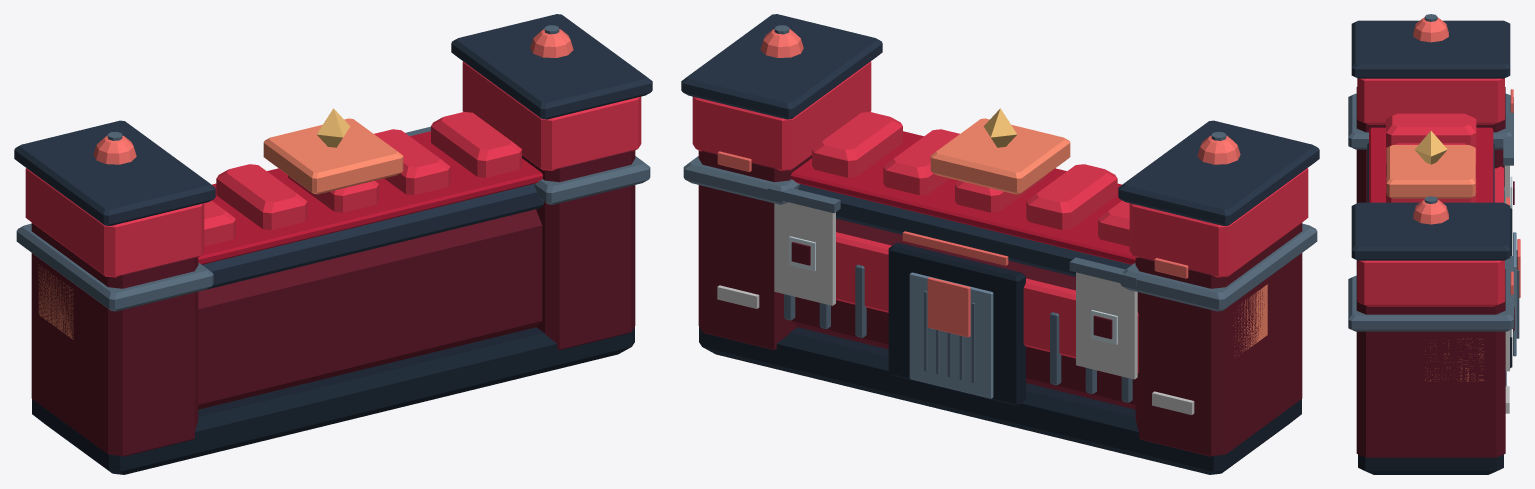
Rendered from S2_EnemyFortress.obj.
3 renders of one model, left to right at view 1: azimuth 30°, elevation 25°; view 2: azimuth 150°, elevation 25°; view 3: azimuth 270°, elevation 25°, orthographic. The views are drawn at different scales.
Parts seen in each view (by area): view 1: MassiveGatehouse_2, TowerLower_9, BasaltFoundation_1, TowerLower_17, TowerTop_20, TowerTop_12, TowerCrown_11, TopCrownHighlight_5, TowerCrown_19, HeavyCrown_4, ReactorLedge_30, TowerRing_10 (+10 smaller); view 2: TowerLower_9, BasaltFoundation_1, TowerLower_17, TowerTop_20, TowerTop_12, GateHousing_6, TowerCrown_11, TopCrownHighlight_5, TowerCrown_19, MassiveGatehouse_2, MainArmourFacia_3, ReactorLedge_30 (+23 smaller); view 3: TowerLower_17, TowerTop_12, TowerTop_20, TowerCrown_19, TowerCrown_11, ReactorLedge_30, TowerRing_18, TopCrownHighlight_5, Battlement_25, BasaltFoundation_1, TowerLower_9, TowerRing_10 (+13 smaller).
Part boxes in pixels (box(x1,y1,x2,y2)): MassiveGatehouse_2: box(198, 209, 542, 409); TowerLower_9: box(31, 223, 198, 456); BasaltFoundation_1: box(32, 327, 634, 474); TowerLower_17: box(522, 150, 635, 349); TowerTop_20: box(451, 14, 652, 119); TowerTop_12: box(14, 120, 215, 225); TowerCrown_11: box(25, 168, 204, 277); TopCrownHighlight_5: box(198, 131, 542, 264); TowerCrown_19: box(462, 61, 641, 170); HeavyCrown_4: box(202, 184, 543, 290); ReactorLedge_30: box(263, 118, 403, 194); TowerRing_10: box(16, 223, 213, 311); TowerLower_9: box(1135, 223, 1302, 456); BasaltFoundation_1: box(699, 327, 1301, 474); TowerLower_17: box(698, 150, 811, 349); TowerTop_20: box(681, 14, 882, 119); TowerTop_12: box(1118, 120, 1319, 225); GateHousing_6: box(888, 242, 1025, 405); TowerCrown_11: box(1129, 168, 1308, 277); TopCrownHighlight_5: box(791, 131, 1135, 264); TowerCrown_19: box(692, 61, 871, 170); MassiveGatehouse_2: box(791, 218, 1135, 409); MainArmourFacia_3: box(836, 232, 1138, 372); ReactorLedge_30: box(930, 118, 1070, 194); TowerLower_17: box(1356, 269, 1505, 457); TowerTop_12: box(1351, 20, 1510, 78); TowerTop_20: box(1351, 202, 1510, 260); TowerCrown_19: box(1357, 260, 1504, 306); TowerCrown_11: box(1357, 78, 1504, 124); ReactorLedge_30: box(1386, 145, 1475, 198); TowerRing_18: box(1348, 275, 1513, 331); TopCrownHighlight_5: box(1369, 127, 1493, 202); Battlement_25: box(1386, 113, 1476, 147); BasaltFoundation_1: box(1358, 454, 1503, 474); TowerLower_9: box(1356, 87, 1505, 268); TowerRing_10: box(1348, 93, 1513, 149).
Size of the model in its own units: 5.53 by 2.94 by 1.76.
